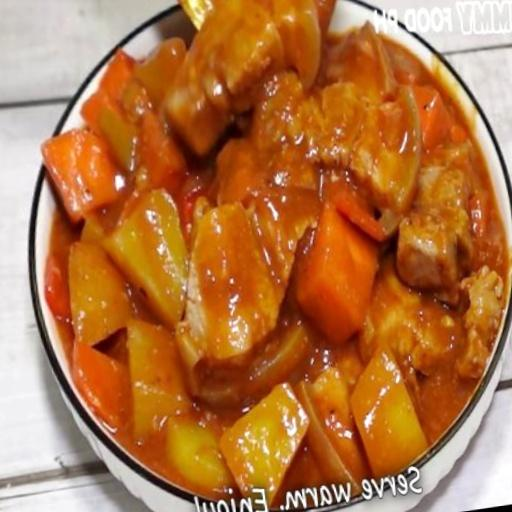pork caldereta: (48, 0, 511, 484)
